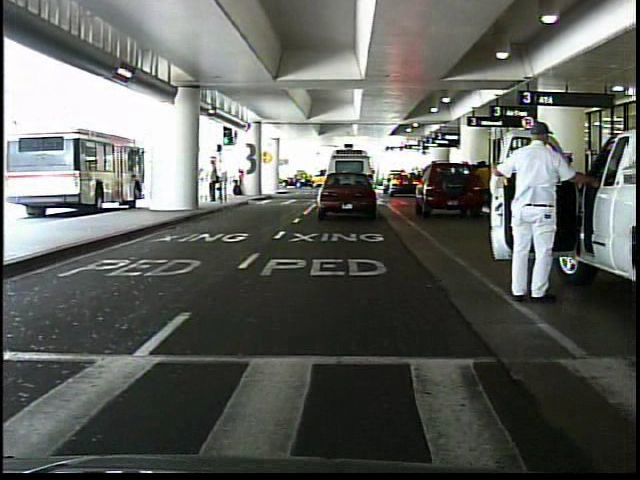person: (490, 116, 579, 306), (549, 150, 581, 229), (471, 157, 496, 213), (205, 155, 221, 205), (231, 163, 247, 199)
